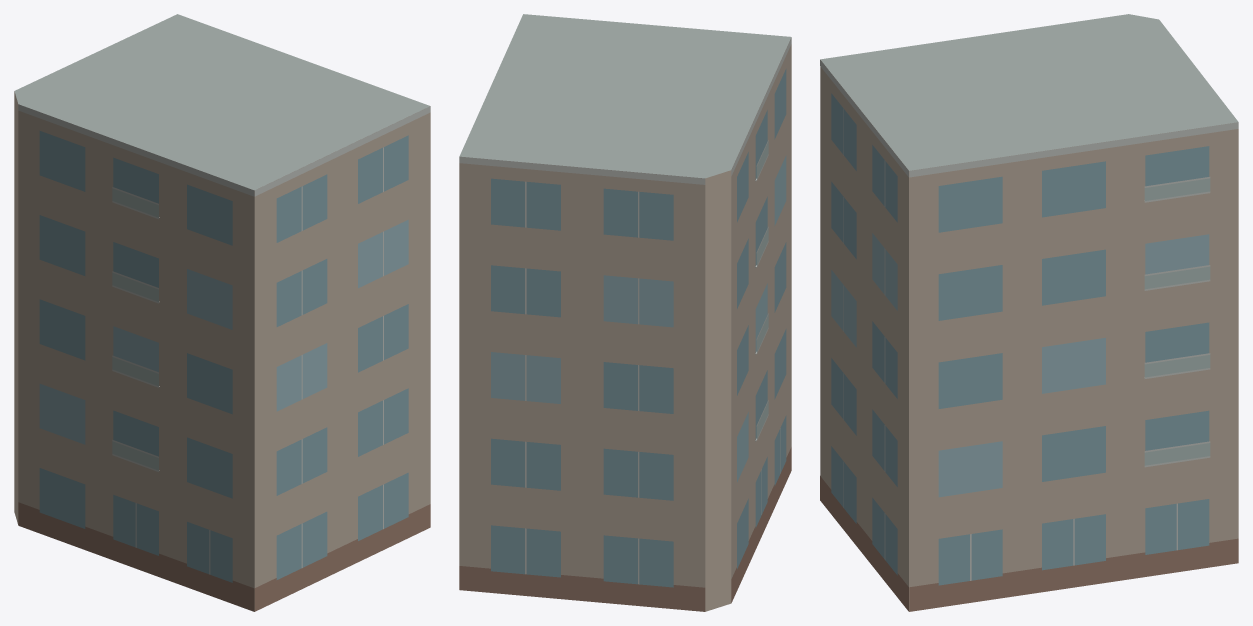
The model's file is survey-upis-32568677.glb.
The picture shows the model from 3 angles, left to right: view 1: azimuth 30°, elevation 25°; view 2: azimuth 150°, elevation 25°; view 3: azimuth 270°, elevation 25°; orthographic projection. The views are drawn at different scales.
Visible parts, largest first — view 1: survey-upis-32568677.tmp; view 2: survey-upis-32568677.tmp; view 3: survey-upis-32568677.tmp.
Boxes of the visible parts, bbox=[...] form: survey-upis-32568677.tmp: bbox=[14, 14, 430, 611]; survey-upis-32568677.tmp: bbox=[459, 14, 791, 611]; survey-upis-32568677.tmp: bbox=[820, 14, 1238, 611].
Size of the model in its own units: 12.33 by 16.15 by 13.9.
